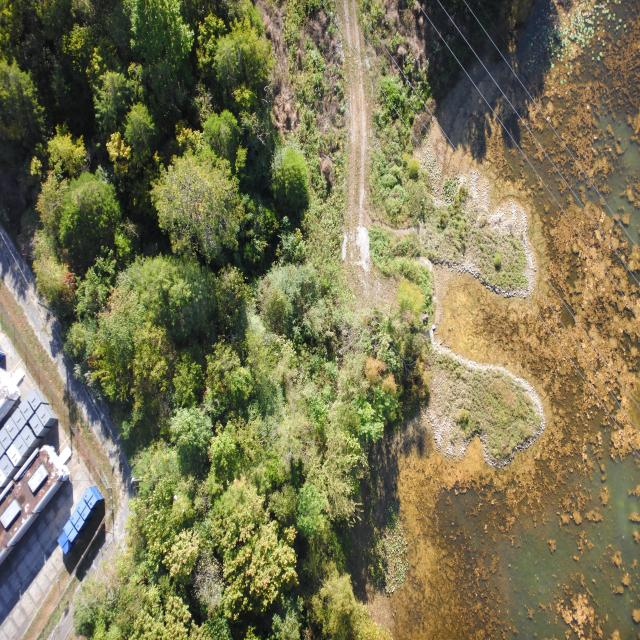Area of Interest: (9, 15, 390, 632)
